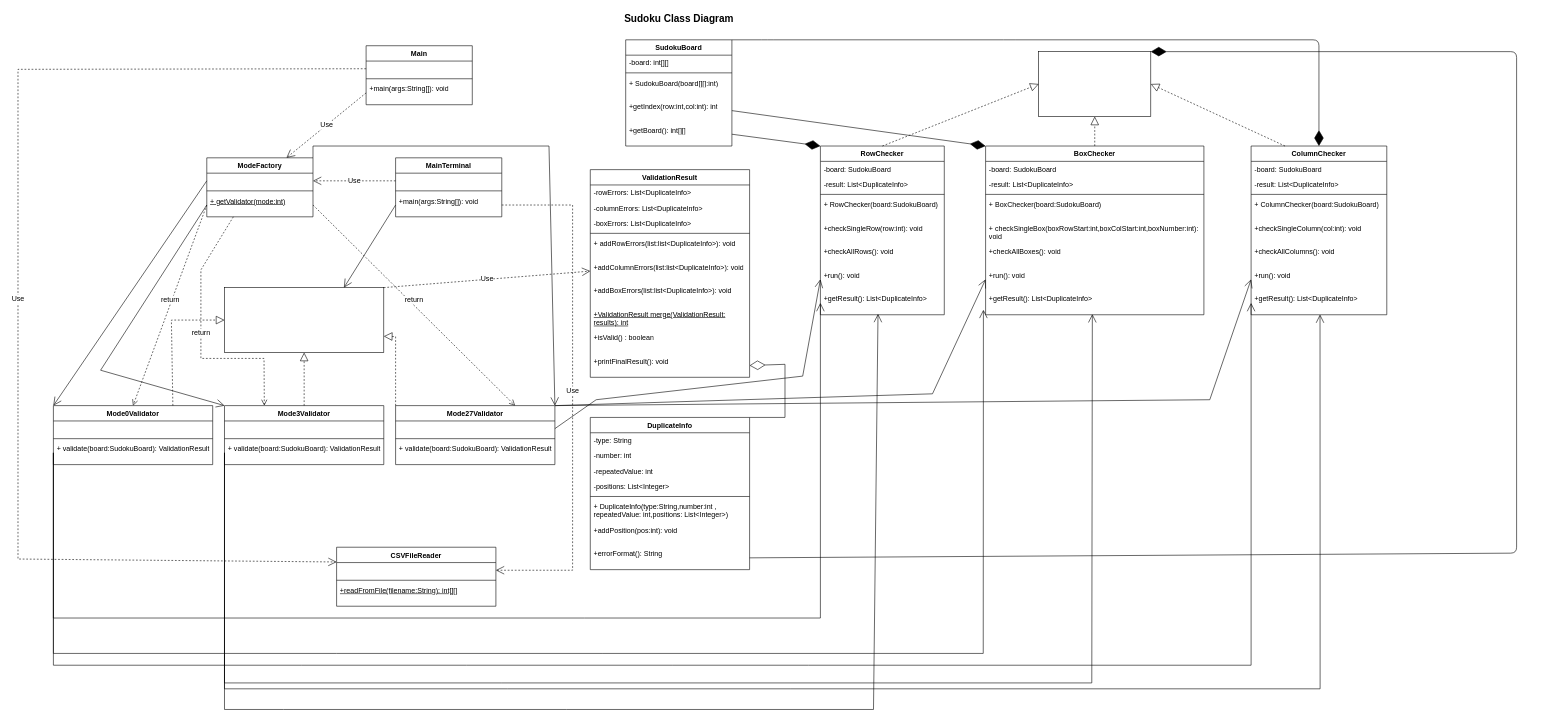
Some shapes in this 1542 by 728 pixel diagram are drawn without their labels. Each missing label, with the centre of its shape:
"<<Interface>> Cheaker + getResult(): List<DuplicateInfo>" goes at point (1094, 84).
"<<Interface>> Validator + validate(board: SudokuBoard ): ValidationResult" goes at point (304, 320).
